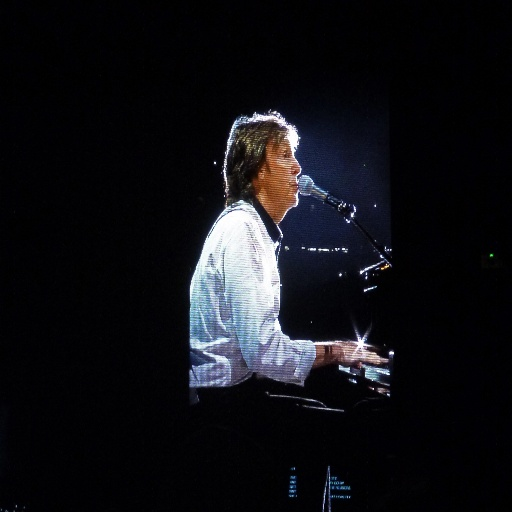hand: (337, 342, 389, 367)
